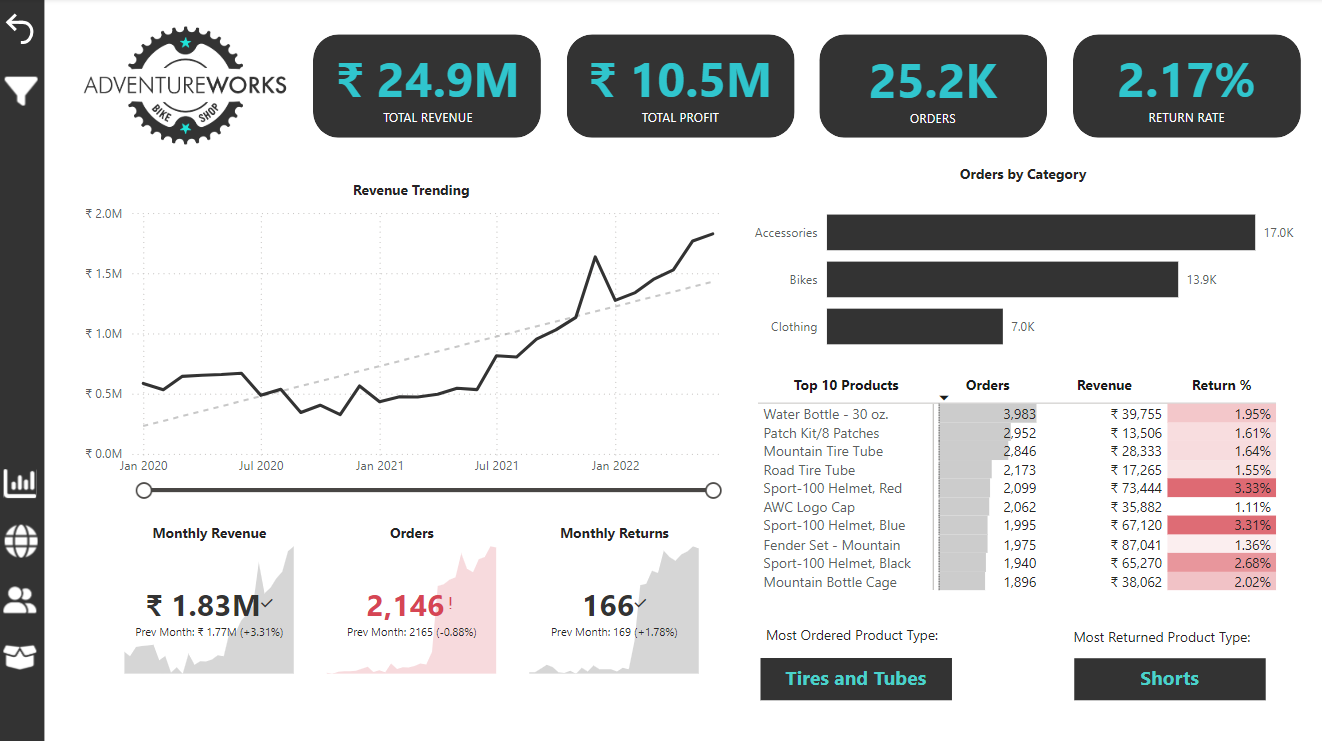

This screenshot's page, from the dashboard's own definition file:
{"tool":"powerbi","page":{"name":"Exec Dashboard","canvas":[1280,720],"ordinal":0},"visuals":[{"type":"shape","title":"Navigation Pane","box":[0,0,45,720],"z":0},{"type":"card","fields":{"Values":["Measure Table.Total Revenue"]},"box":[291.2,8.8,248.8,151.2],"z":0,"group":"g2"},{"type":"group","id":"g1","title":"KPI Backgrounds","box":[305,35,953.8,100],"z":0,"group":"g3"},{"type":"shape","box":[305,35,220,100],"z":0,"group":"g1"},{"type":"actionButton","box":[1.2,448.8,44.6,39.8],"z":0,"group":"g4"},{"type":"image","title":"AW Logo","box":[56.2,8.8,248.8,151.2],"z":1000},{"type":"group","id":"g2","title":"KPI Cards","box":[291.2,8.8,981.2,152.5],"z":1000,"group":"g3"},{"type":"card","fields":{"Values":["Measure Table.Total Profit"]},"box":[535.4,8.8,248.8,151.2],"z":1000,"group":"g2"},{"type":"shape","box":[549.6,35,220,100],"z":1000,"group":"g1"},{"type":"actionButton","box":[2.4,504.3,44.6,39.8],"z":1000,"group":"g4"},{"type":"card","fields":{"Values":["Measure Table.Total Orders"]},"box":[778.7,10,248.8,151.2],"z":2000,"group":"g2"},{"type":"shape","box":[794.2,35,220,100],"z":2000,"group":"g1"},{"type":"actionButton","box":[2.4,70,44.6,39.8],"z":2000},{"type":"actionButton","box":[1.2,616.5,44.6,39.8],"z":2000,"group":"g4"},{"type":"group","id":"g3","title":"KPI Visual","box":[291.2,8.8,981.2,152.5],"z":3000},{"type":"card","fields":{"Values":["Measure Table.Return Rate"]},"box":[1023.7,8.8,248.8,151.2],"z":3000,"group":"g2"},{"type":"shape","box":[1038.8,35,220,100],"z":3000,"group":"g1"},{"type":"actionButton","box":[1.2,560.6,44.6,39.8],"z":3000,"group":"g4"},{"type":"lineChart","title":"Revenue Trending","fields":{"Y":["Measure Table.Total Revenue"],"Category":["Calendar Lookup.Year","Calendar Lookup.Start of Quarter","Calendar Lookup.Start of Month"]},"box":[78.4,176.1,640.6,310.1],"z":4000},{"type":"kpi","title":"Monthly Revenue","fields":{"Indicator":["Measure Table.Total Revenue"],"TrendLine":["Calendar Lookup.Start of Month"],"Goal":["Measure Table.Previous Month Revenue"]},"box":[117,506.7,173.7,150.8],"z":5000},{"type":"kpi","title":"Orders","fields":{"TrendLine":["Calendar Lookup.Start of Month"],"Indicator":["Measure Table.Total Orders"],"Goal":["Measure Table.Previous Month Orders"]},"box":[312.5,506.7,173.7,150.8],"z":6000},{"type":"kpi","title":"Monthly Returns","fields":{"TrendLine":["Calendar Lookup.Start of Month"],"Indicator":["Measure Table.Total Returns"],"Goal":["Measure Table.Previous Month Returns"]},"box":[507.9,506.7,173.7,150.8],"z":7000},{"type":"barChart","title":"Orders by Category","fields":{"Category":["Product Categories Lookup.CategoryName"],"Y":["Measure Table.Total Orders"]},"box":[720.2,160.5,538.1,199.1],"z":8000},{"type":"pivotTable","fields":{"Rows":["Product Lookup.ProductName"],"Values":["Measure Table.Total Orders","Measure Table.Total Revenue","Measure Table.Return Rate"]},"box":[728.7,359.5,521.2,222],"z":9000},{"type":"card","fields":{"Values":["Min(Product Subcategories Lookup.SubcategoryName)"]},"box":[735.9,637,184.6,41],"z":10000},{"type":"textbox","box":[735.9,600.8,184.6,33.8],"z":11000},{"type":"card","fields":{"Values":["Min(Product Subcategories Lookup.SubcategoryName)"]},"box":[1038.7,637,184.6,41],"z":12000},{"type":"textbox","box":[1032.7,602,209.9,35],"z":13000},{"type":"actionButton","box":[1.2,9.7,42.2,39.8],"z":14000},{"type":"group","id":"g4","title":"Nav Buttons","box":[1.2,448.8,45.8,207.5],"z":15000}]}

Visuals, with their boxes on the page's 1280x720 design canvas (x1, y1, x2, y2). These are canvas units, not pixel positions in the 1322x741 screenshot, which may show the page scaled, cropped or inside an application window:
"Navigation Pane" shape: Rect(0, 0, 45, 720)
card - Measure Table.Total Revenue: Rect(291, 9, 540, 160)
"KPI Backgrounds" group: Rect(305, 35, 1259, 135)
shape: Rect(305, 35, 525, 135)
actionButton: Rect(1, 449, 46, 489)
"AW Logo" image: Rect(56, 9, 305, 160)
"KPI Cards" group: Rect(291, 9, 1272, 161)
card - Measure Table.Total Profit: Rect(535, 9, 784, 160)
shape: Rect(550, 35, 770, 135)
actionButton: Rect(2, 504, 47, 544)
card - Measure Table.Total Orders: Rect(779, 10, 1028, 161)
shape: Rect(794, 35, 1014, 135)
actionButton: Rect(2, 70, 47, 110)
actionButton: Rect(1, 616, 46, 656)
"KPI Visual" group: Rect(291, 9, 1272, 161)
card - Measure Table.Return Rate: Rect(1024, 9, 1272, 160)
shape: Rect(1039, 35, 1259, 135)
actionButton: Rect(1, 561, 46, 600)
"Revenue Trending" lineChart: Rect(78, 176, 719, 486)
"Monthly Revenue" kpi: Rect(117, 507, 291, 658)
"Orders" kpi: Rect(312, 507, 486, 658)
"Monthly Returns" kpi: Rect(508, 507, 682, 658)
"Orders by Category" barChart: Rect(720, 160, 1258, 360)
pivotTable - Product Lookup.ProductName x Measure Table.Total Orders: Rect(729, 360, 1250, 582)
card - Min(Product Subcategories Lookup.SubcategoryName): Rect(736, 637, 920, 678)
textbox: Rect(736, 601, 920, 635)
card - Min(Product Subcategories Lookup.SubcategoryName): Rect(1039, 637, 1223, 678)
textbox: Rect(1033, 602, 1243, 637)
actionButton: Rect(1, 10, 43, 50)
"Nav Buttons" group: Rect(1, 449, 47, 656)
